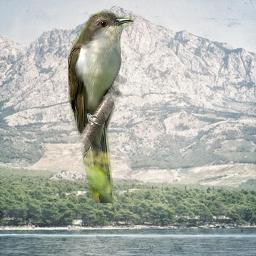Cuckoo: (68, 6, 134, 203)
